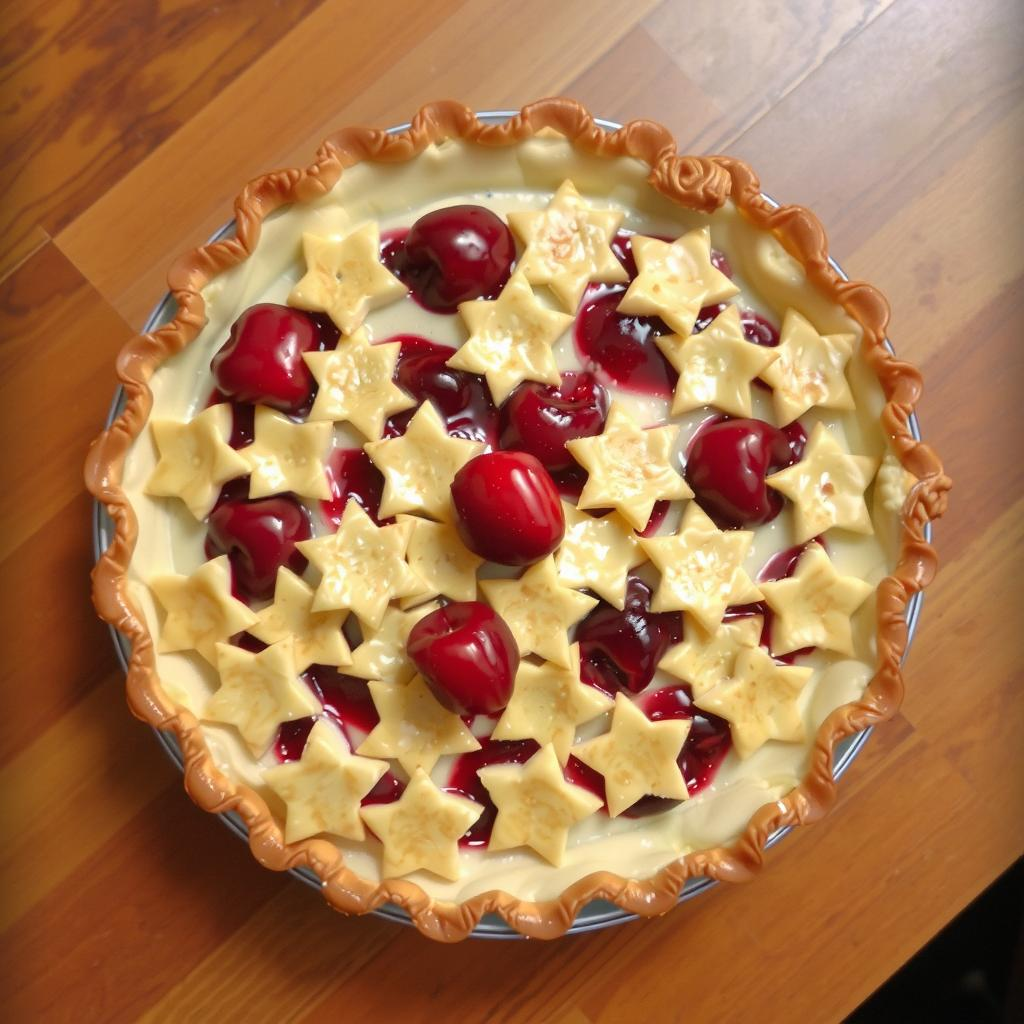pie: (77, 93, 961, 947)
